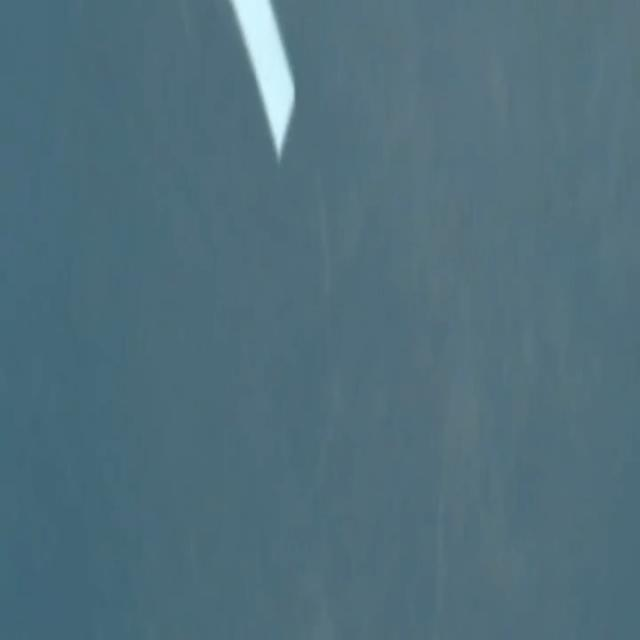center: (228, 0, 294, 161)
